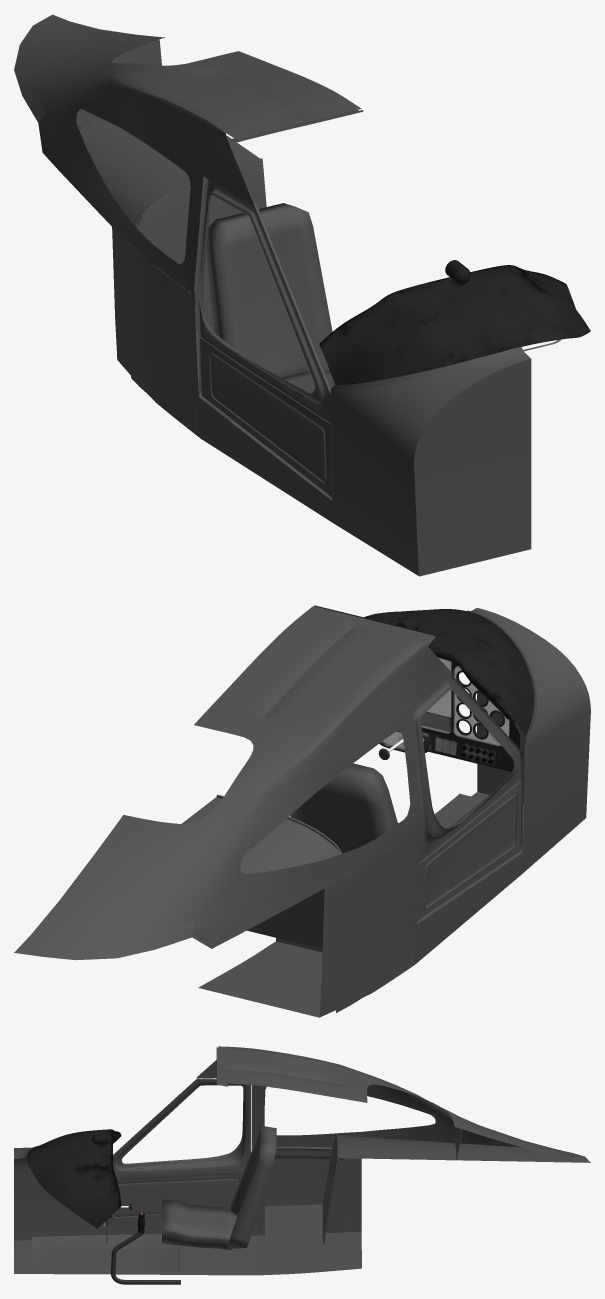
Rendered from Cockpit_01.glb.
3 renders of one model, top to bottom at view 1: azimuth 30°, elevation 25°; view 2: azimuth 150°, elevation 25°; view 3: azimuth 270°, elevation 25°, orthographic. The views are drawn at different scales.
Parts seen in each view (by area): view 1: Cockpit, Dashboard, Chair02; view 2: Cockpit, Dashboard, Chair02; view 3: Cockpit, Dashboard, Chair01, Chair02, Stick.
Boxes of the visible parts, x1,y1,x2,y2 form: Cockpit: (14, 14, 531, 576); Dashboard: (319, 260, 590, 384); Chair02: (206, 203, 332, 377); Cockpit: (14, 605, 590, 1017); Dashboard: (364, 609, 534, 771); Chair02: (290, 763, 397, 853); Cockpit: (14, 1046, 590, 1275); Dashboard: (26, 1129, 121, 1243); Chair01: (162, 1199, 237, 1249); Chair02: (227, 1125, 276, 1248); Stick: (111, 1212, 180, 1284).
Size of the model in its own units: 0.9624 by 1.08 by 2.95.
Materials: 7 (2 with a texture image).
